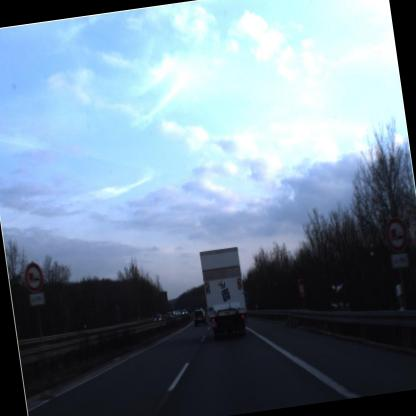prohibitory: (381, 214, 411, 256), (18, 255, 46, 296)
